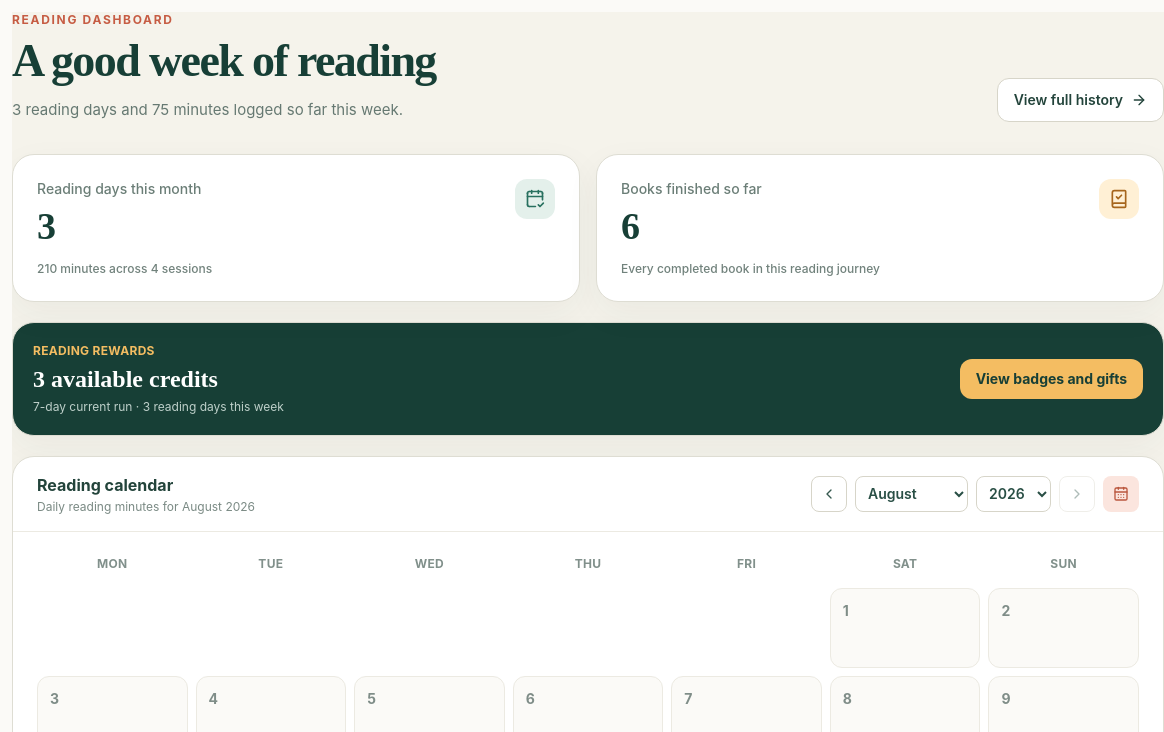
Test: DashboardPage › shows monthly activity, book progress, and recent activity
Expected: the heading "A good week of reading" is shown, [12,36,436,86]
Expected: the text "Reading days this month" is shown, [37,179,201,199]
Click the button named "Previous month": (829,494) [811,476,847,512]
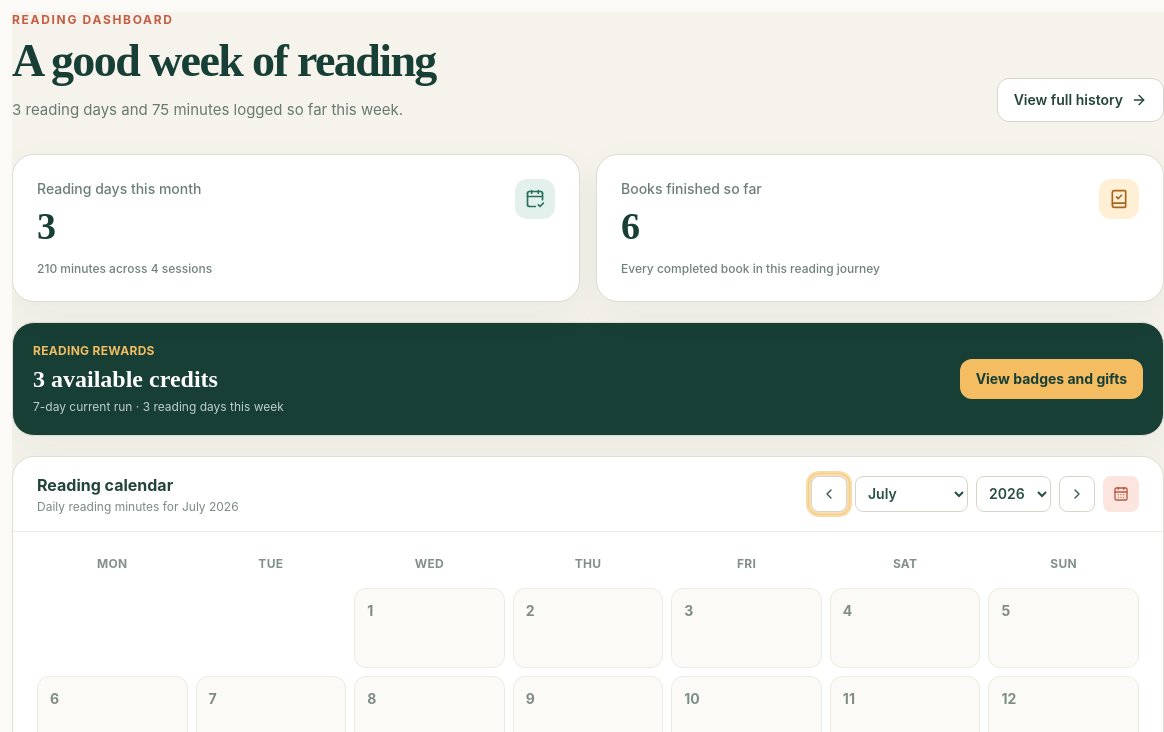
Expected: the text "Daily reading minutes for July 2026" is shown, [37,499,239,515]
